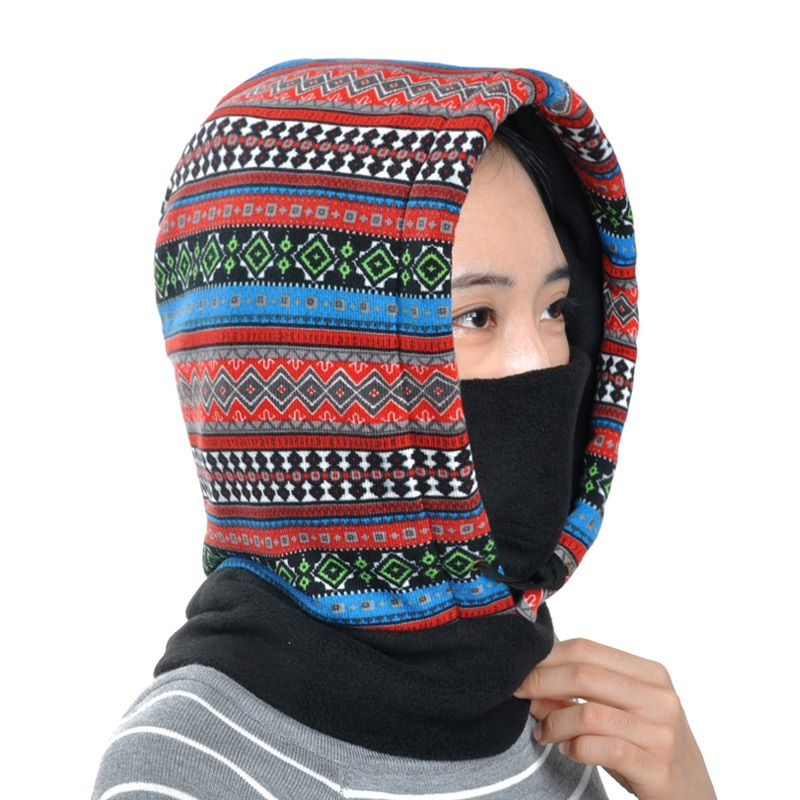face_mask: (300, 143, 575, 567)
